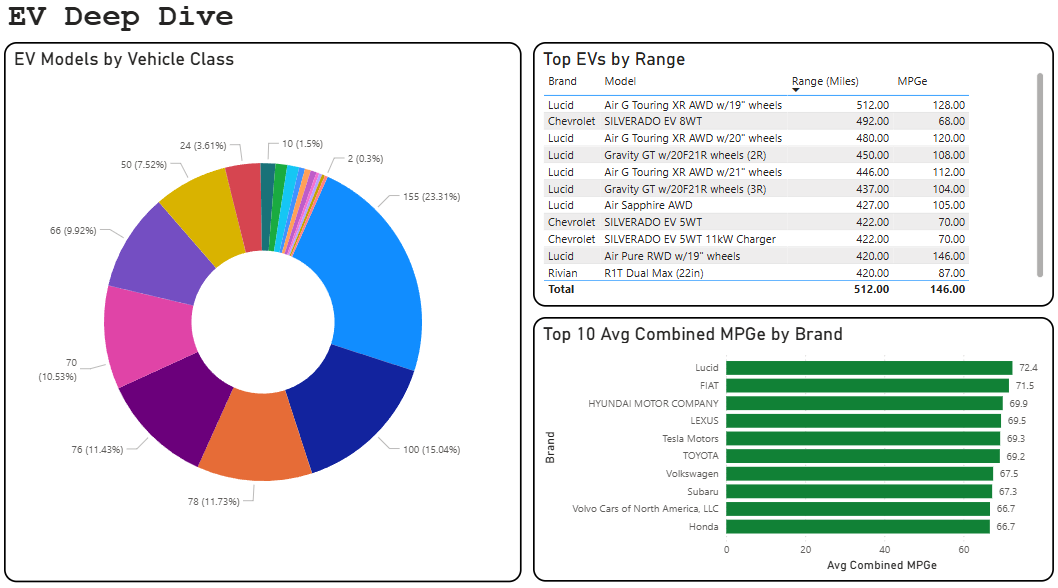

The page's visual inventory and layout, read from the dashboard file:
{"tool":"powerbi","page":{"name":"EV Deep Dive","canvas":[1280,720],"ordinal":2},"visuals":[{"type":"clusteredBarChart","title":"Top 10 Avg Combined MPGe by Brand","fields":{"Category":["EPA_EV_Clean.Brand"],"Y":["Avg(EPA_EV_Clean.Combined_MPGe)"]},"box":[640.3,393.9,620,315.4],"z":0},{"type":"tableEx","title":"Top EVs by Range","fields":{"Values":["EPA_EV_Clean.Brand","EPA_EV_Clean.Model","Max(EPA_EV_Clean.Range_Miles_Combined)","Max(EPA_EV_Clean.Combined_MPGe)"]},"box":[640.3,66.6,620,315],"z":1000},{"type":"textbox","box":[10.7,10.7,601,55.9],"z":1001},{"type":"donutChart","title":"EV Models by Vehicle Class","fields":{"Category":["EPA_EV_Clean.Vehicle_Class"],"Y":["CountNonNull(EPA_EV_Clean.Model)"]},"box":[10.7,66.6,616.5,642.6],"z":1003}]}

Visuals, with their boxes in screenshot pixels (x1, y1, x2, y2), scaled from the page's 1280x720 canvas onto the 1058x588 screenshot:
"Top 10 Avg Combined MPGe by Brand" clusteredBarChart: Rect(529, 322, 1042, 579)
"Top EVs by Range" tableEx: Rect(529, 54, 1042, 312)
textbox: Rect(9, 9, 506, 54)
"EV Models by Vehicle Class" donutChart: Rect(9, 54, 518, 579)
